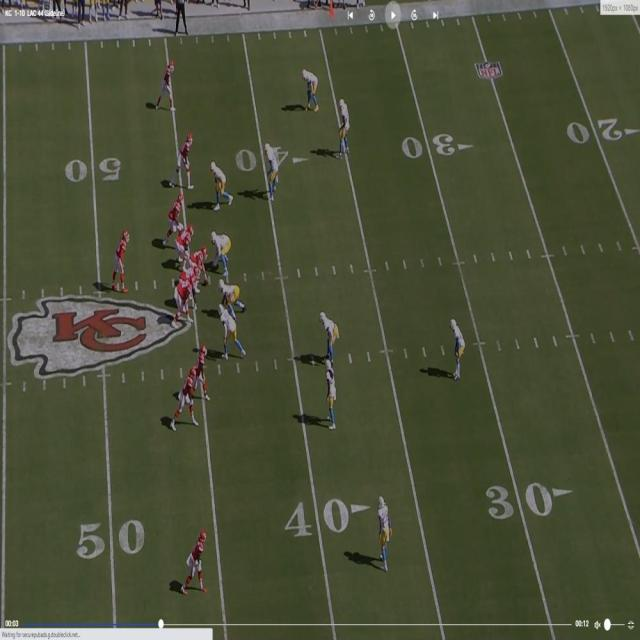center: (192, 245, 210, 277)
db: (378, 494, 391, 568), (337, 95, 352, 158), (450, 318, 465, 378), (302, 70, 318, 108)
lb: (210, 161, 227, 209), (323, 311, 339, 362), (268, 142, 283, 190), (328, 358, 338, 430)
qb: (117, 226, 132, 289)
skill: (185, 530, 204, 592), (176, 132, 194, 186), (178, 371, 195, 426), (221, 302, 239, 353), (196, 342, 210, 402), (162, 61, 174, 113)
